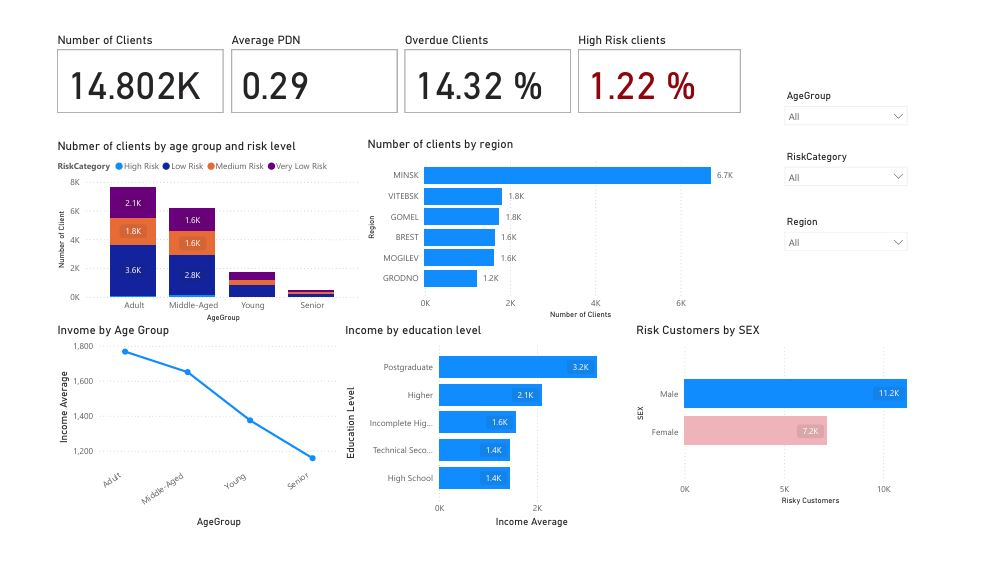

Layout of this report page (visuals, bound fields, positions):
{"tool":"powerbi","page":{"name":"Page 1","canvas":[1280,720],"ordinal":0},"visuals":[{"type":"cardVisual","title":"Average PDN","fields":{"Data":["Avg(risk_data.PDN)"]},"box":[256.6,11,247,119.4],"z":0},{"type":"cardVisual","title":"Number of Clients","fields":{"Data":["Count(risk_data.CLIENTID)"]},"box":[9.6,11,247,119.4],"z":1000},{"type":"cardVisual","title":"Overdue Clients","fields":{"Data":["risk_data.OverdueRate"]},"box":[503.6,11,247,119.4],"z":2000},{"type":"barChart","title":"Risk Customers by SEX","fields":{"Category":["risk_data.SEX"],"Y":["CountNonNull(risk_data.RiskCategory)"]},"box":[832.9,424,447.3,264.8],"z":3000},{"type":"barChart","title":"Income by education level","fields":{"Y":["Avg(risk_data.INCOME)"],"Category":["risk_data.EDU"]},"box":[418.5,424,414.4,296.4],"z":4000},{"type":"columnChart","title":"Nubmer of clients by age group and risk level","fields":{"Category":["risk_data.AgeGroup"],"Y":["Count(risk_data.CLIENTID)"],"Series":["risk_data.RiskCategory"]},"box":[9.6,163.3,440.5,264.8],"z":5000},{"type":"barChart","title":"Number of clients by region","fields":{"Category":["risk_data.LV_AREA"],"Y":["Count(risk_data.CLIENTID)"]},"box":[450.1,159.2,542,264.8],"z":6000},{"type":"lineChart","title":"Invome by Age Group","fields":{"Y":["Avg(risk_data.INCOME)"],"Category":["risk_data.AgeGroup"]},"box":[9.6,424,408.9,296.4],"z":7000},{"type":"cardVisual","title":"High Risk clients","fields":{"Data":["risk_data.HighRiskRate"]},"box":[750.6,11,241.5,119.4],"z":8000},{"type":"slicer","fields":{"Values":["risk_data.RiskCategory"]},"box":[1038.8,174.3,194.9,93.3],"z":9000},{"type":"slicer","fields":{"Values":["risk_data.AgeGroup"]},"box":[1038.8,87.8,194.9,86.4],"z":10000},{"type":"slicer","fields":{"Values":["risk_data.LV_AREA"]},"box":[1038.8,267.6,194.9,81],"z":11000}]}

Visuals, with their boxes in screenshot pixels (x1, y1, x2, y2), scaled from the page's 1280x720 canvas onto the 993x564 screenshot:
"Average PDN" cardVisual: x1=199 y1=9 x2=391 y2=102
"Number of Clients" cardVisual: x1=7 y1=9 x2=199 y2=102
"Overdue Clients" cardVisual: x1=391 y1=9 x2=582 y2=102
"Risk Customers by SEX" barChart: x1=646 y1=332 x2=992 y2=540
"Income by education level" barChart: x1=325 y1=332 x2=646 y2=563
"Nubmer of clients by age group and risk level" columnChart: x1=7 y1=128 x2=349 y2=335
"Number of clients by region" barChart: x1=349 y1=125 x2=770 y2=332
"Invome by Age Group" lineChart: x1=7 y1=332 x2=325 y2=563
"High Risk clients" cardVisual: x1=582 y1=9 x2=770 y2=102
slicer - risk_data.RiskCategory: x1=806 y1=137 x2=957 y2=210
slicer - risk_data.AgeGroup: x1=806 y1=69 x2=957 y2=136
slicer - risk_data.LV_AREA: x1=806 y1=210 x2=957 y2=273
